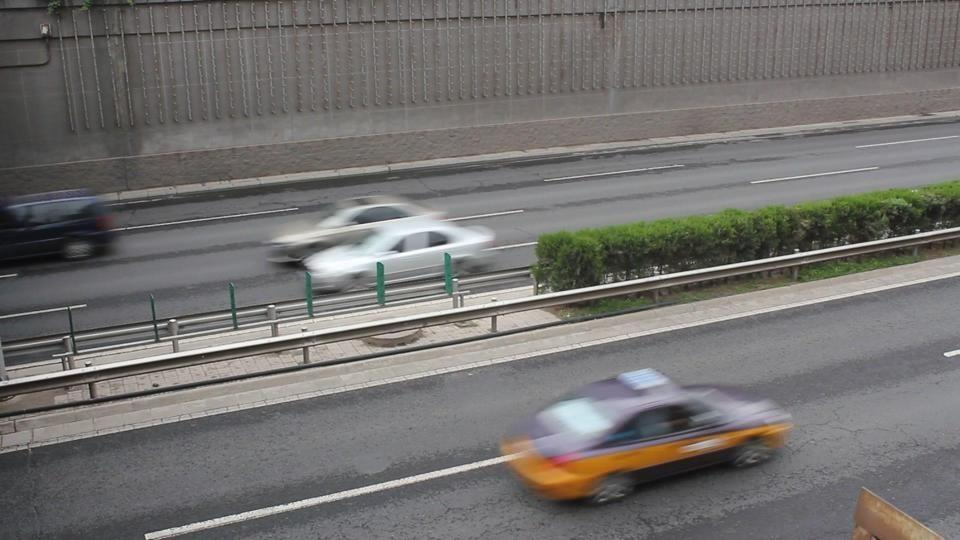car: (498, 366, 795, 506), (296, 214, 496, 288), (264, 199, 446, 269), (0, 188, 122, 264)
